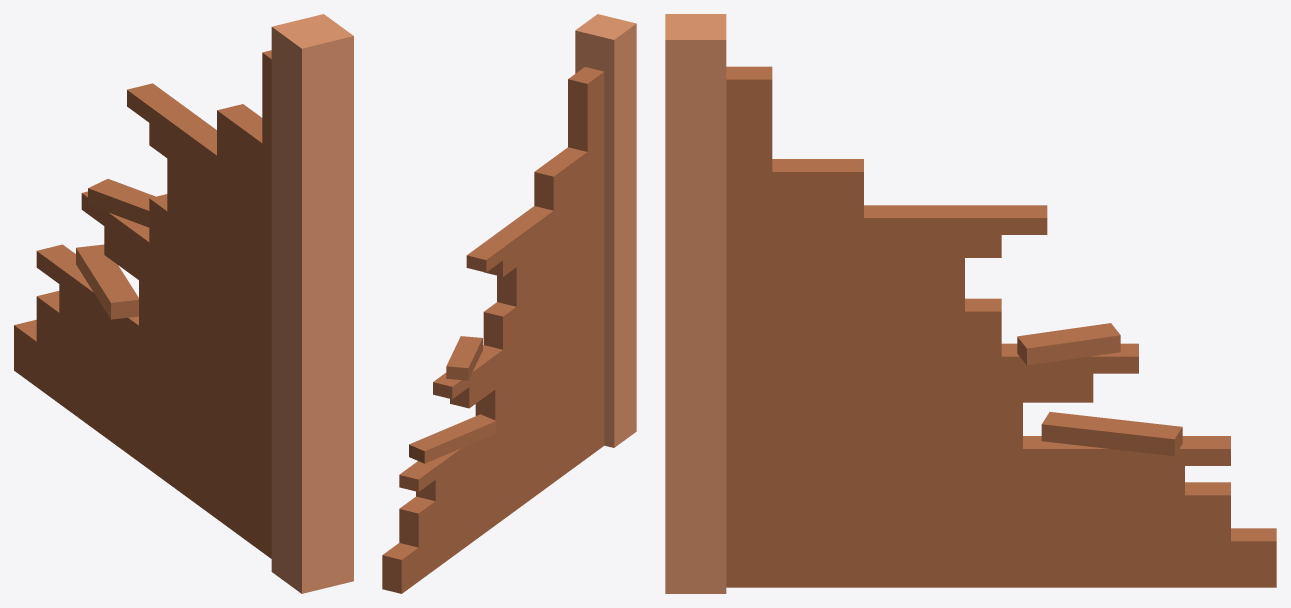
Rendered from wallWoodBroken.fbx.
3 renders of one model, left to right at view 1: azimuth 30°, elevation 25°; view 2: azimuth 150°, elevation 25°; view 3: azimuth 270°, elevation 25°, orthographic. The views are drawn at different scales.
Parts seen in each view (by area): view 1: wallWoodBroken; view 2: wallWoodBroken; view 3: wallWoodBroken.
Part boxes in pixels (box(x1,y1,x2,y2)): wallWoodBroken: box(14, 14, 353, 593); wallWoodBroken: box(382, 14, 636, 593); wallWoodBroken: box(665, 14, 1276, 593).
Size of the model in its own units: 1.13 by 10 by 10.
